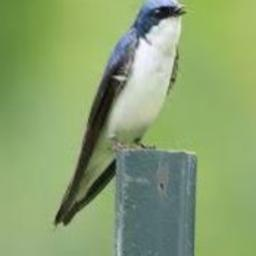Swallow: (53, 0, 190, 227)
